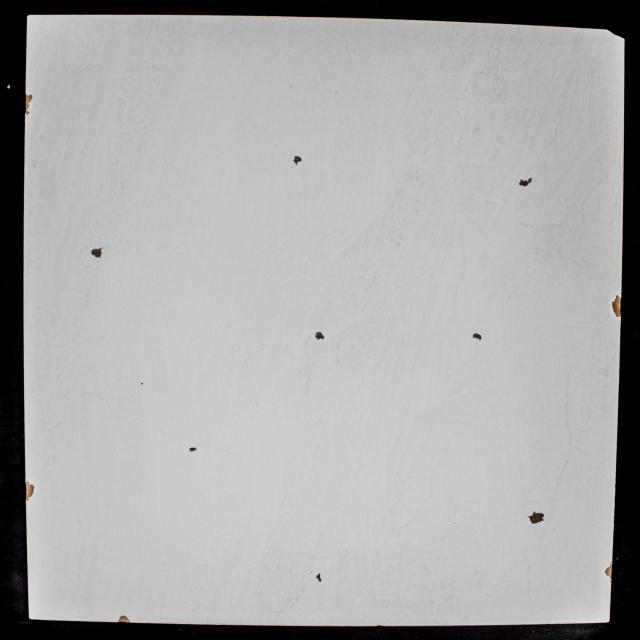edge-chipping: (612, 295, 622, 317), (25, 481, 35, 502), (607, 30, 625, 40), (604, 561, 612, 583), (117, 615, 130, 623), (25, 93, 33, 103), (24, 110, 30, 115), (26, 103, 30, 109), (377, 625, 384, 626)
hole: (528, 511, 544, 524), (519, 177, 533, 187), (91, 248, 102, 258), (315, 332, 325, 341), (293, 156, 302, 165), (472, 333, 482, 340), (316, 573, 322, 582), (189, 447, 196, 452), (141, 382, 143, 384)
